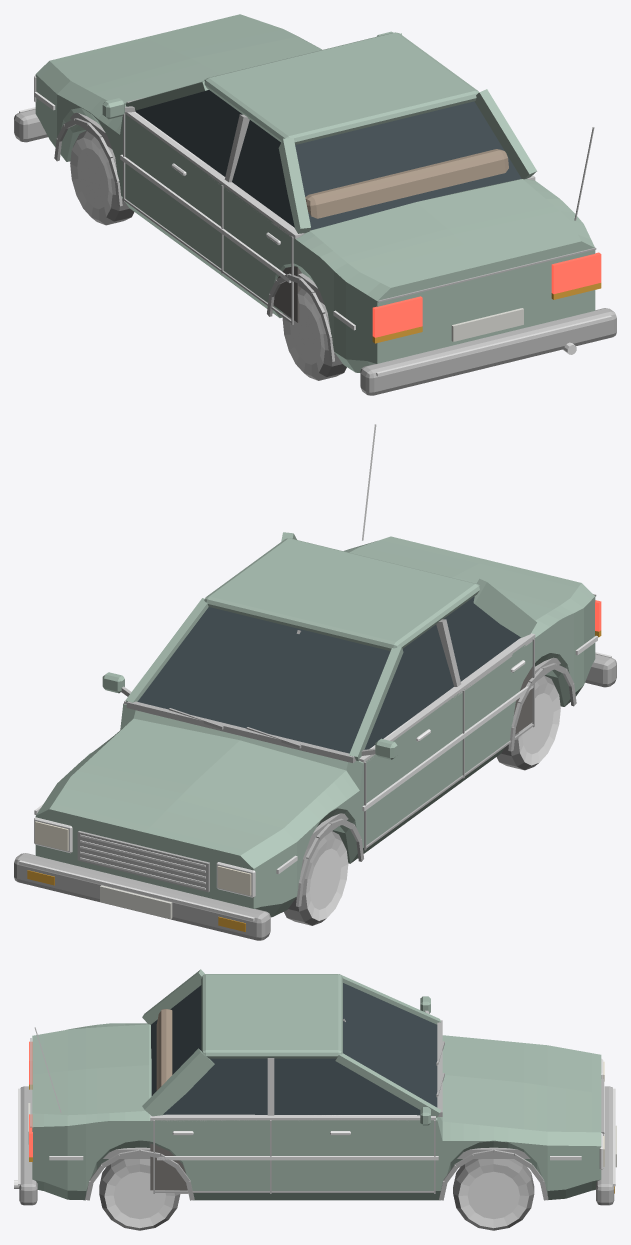
Rendered from Car.fbx.
The picture shows the model from 3 angles, top to bottom: view 1: azimuth 30°, elevation 25°; view 2: azimuth 150°, elevation 25°; view 3: azimuth 270°, elevation 25°; orthographic projection. The views are drawn at different scales.
Visible parts, largest first — view 1: Body, Car_Windows, Roof, Bumper_Rear, Seat_Rear_Back, Wheel_FL, Wheel_RL, Interior_Sill_L, Pillar_C_R, Pillar_C_L, Taillight_L, Taillight_R (+9 smaller); view 2: Body, Car_Windows, Roof, Bumper_Front, Wheel_FL, Grille, Wheel_RL, Windshield_Frame_Bottom, Interior_Sill_L, Pillar_C_L, Pillar_A_L, Pillar_A_R (+6 smaller); view 3: Body, Car_Windows, Roof, Wheel_FR, Wheel_RR, Pillar_C_R, Interior_Sill_R, Bumper_Rear, SideTrim_R, Bumper_Front, Seat_Rear_Back, Pillar_A_R (+7 smaller).
Boxes of the visible parts, box(x1,y1,x2,y2) form: Body: box(35, 14, 595, 372); Car_Windows: box(135, 90, 521, 233); Roof: box(204, 32, 478, 144); Bumper_Rear: box(360, 308, 616, 395); Seat_Rear_Back: box(305, 149, 508, 218); Wheel_FL: box(70, 130, 134, 225); Wheel_RL: box(282, 288, 346, 380); Interior_Sill_L: box(124, 112, 304, 239); Pillar_C_R: box(474, 89, 536, 179); Pillar_C_L: box(278, 137, 310, 233); Taillight_L: box(372, 296, 422, 337); Taillight_R: box(551, 252, 601, 294); Body: box(35, 536, 595, 917); Car_Windows: box(137, 596, 520, 753); Roof: box(204, 538, 479, 650); Bumper_Front: box(14, 853, 270, 940); Wheel_FL: box(284, 831, 348, 925); Grille: box(77, 831, 209, 892); Wheel_RL: box(496, 675, 560, 770); Windshield_Frame_Bottom: box(126, 701, 355, 762); Interior_Sill_L: box(359, 633, 535, 762); Pillar_C_L: box(473, 578, 536, 638); Pillar_A_L: box(349, 646, 403, 760); Pillar_A_R: box(125, 598, 208, 702); Body: box(32, 1023, 601, 1200); Car_Windows: box(151, 983, 437, 1115); Roof: box(201, 974, 342, 1058); Wheel_FR: box(453, 1159, 534, 1230); Wheel_RR: box(99, 1159, 180, 1230); Pillar_C_R: box(142, 1048, 214, 1116); Interior_Sill_R: box(150, 1114, 435, 1121); Bumper_Rear: box(19, 1086, 37, 1205); SideTrim_R: box(157, 1156, 438, 1160); Bumper_Front: box(596, 1086, 614, 1205); Seat_Rear_Back: box(156, 1009, 172, 1090); Pillar_A_R: box(335, 1053, 440, 1117).
Size of the model in its own units: 2.14 by 1.7 by 4.6.
